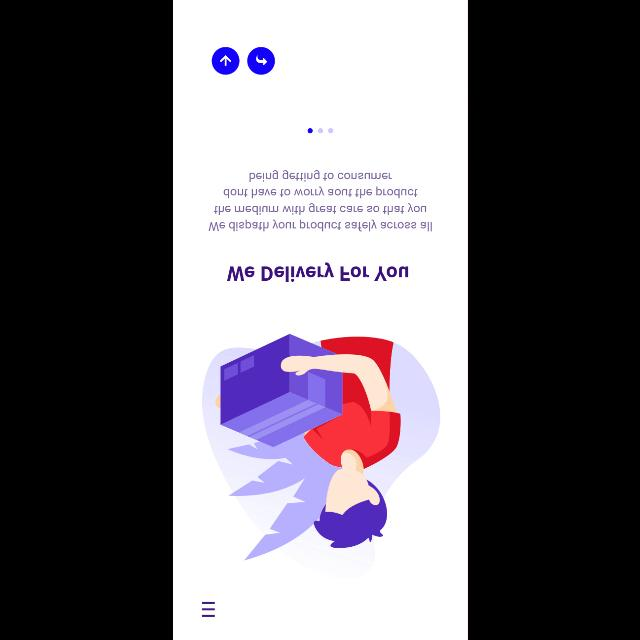icon: (247, 47, 275, 75), (211, 47, 239, 75), (202, 602, 214, 616)
image: (202, 334, 440, 560)
pageindicator: (307, 128, 333, 134)
text: (208, 170, 432, 232), (226, 262, 408, 282)
